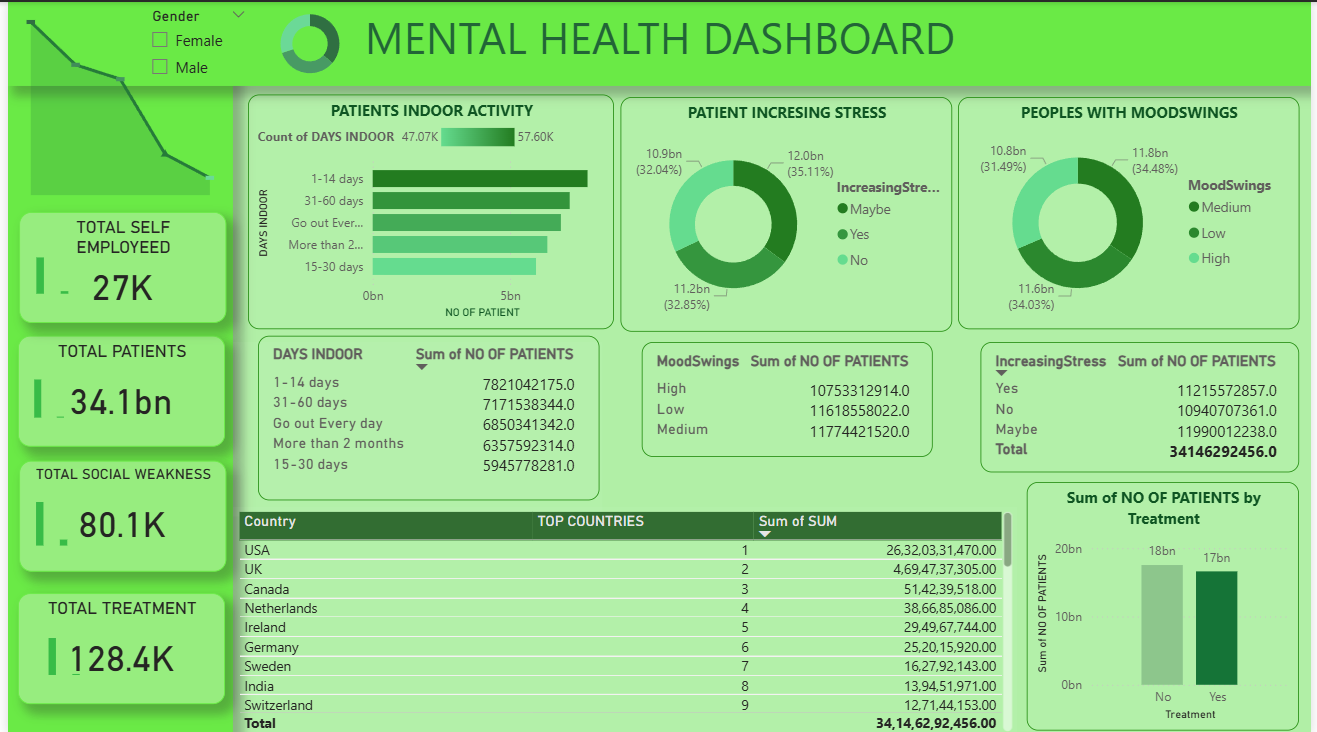

What the dashboard file says about the page in this screenshot:
{"tool":"powerbi","page":{"name":"Page 1","canvas":[1280,720],"ordinal":0},"visuals":[{"type":"textbox","box":[0,0,220.9,720.4],"z":0},{"type":"card","title":"TOTAL PATIENTS","fields":{"Values":["Sum(Mental Health dataset1.NO OF PATIENTS)"]},"box":[9.6,328,203.1,108.4],"z":1000},{"type":"textbox","box":[0,0,1280.3,82.3],"z":2000},{"type":"card","title":"TOTAL SOCIAL WEAKNESS","fields":{"Values":["Sum(Mental Health dataset1.SOCIAL WEAKNESS)"]},"box":[11,450.1,203.1,108.4],"z":3000},{"type":"card","title":"TOTAL TREATMENT","fields":{"Values":["Sum(Mental Health dataset1.TOTAL TREATMENT)"]},"box":[9.6,580.4,203.1,108.4],"z":4000},{"type":"clusteredBarChart","title":"PATIENTS INDOOR ACTIVITY","fields":{"Category":["Mental Health dataset1.DaysIndoors"],"Y":["Sum(Mental Health dataset1.NO OF PATIENTS)"]},"box":[236,90.6,359.5,230.5],"z":5000},{"type":"columnChart","fields":{"Category":["Mental Health dataset1.Gender"],"Y":["Sum(Mental Health dataset1.NO OF PATIENTS)"]},"box":[23.3,603.8,65.9,63.1],"z":6000},{"type":"textbox","box":[220.9,333.4,362.3,171.5],"z":7000},{"type":"columnChart","fields":{"Category":["Mental Health dataset1.Gender"],"Y":["Sum(Mental Health dataset1.NO OF PATIENTS)"]},"box":[9.6,349.9,63.1,64.5],"z":8000},{"type":"tableEx","fields":{"Values":["Mental Health dataset1 (2).Country","Mental Health dataset1 (2).TOP COUNTRIES","Sum(Mental Health dataset1 (2).SUM)"]},"box":[220.9,495.4,769.8,225],"z":9000},{"type":"lineChart","fields":{"Category":["Mental Health dataset1.Occupation"],"Y":["Sum(Mental Health dataset1.NO OF PATIENTS)"]},"box":[0,0,220.9,194.9],"z":10000},{"type":"slicer","fields":{"Values":["Mental Health dataset1.Gender"]},"box":[129,0,116.6,82.3],"z":11000},{"type":"donutChart","title":"PEOPLES WITH MOODSWINGS","fields":{"Category":["Mental Health dataset1.MoodSwings"],"Y":["Sum(Mental Health dataset1.NO OF PATIENTS)"]},"box":[933.1,93.3,334.8,227.8],"z":12000},{"type":"donutChart","title":" PATIENT INCRESING STRESS","fields":{"Category":["Mental Health dataset1.IncreasingStress"],"Y":["Sum(Mental Health dataset1.NO OF PATIENTS)"]},"box":[601,93.3,325.2,230.5],"z":13000},{"type":"pivotTable","fields":{"Rows":["Mental Health dataset1.DaysIndoors"],"Values":["Sum(Mental Health dataset1.NO OF PATIENTS)"]},"box":[245.6,328,334.8,161.9],"z":14000},{"type":"columnChart","fields":{"Category":["Mental Health dataset1.Gender"],"Y":["Sum(Mental Health dataset1.SOCIAL WEAKNESS)"]},"box":[11,470.7,65.9,68.6],"z":15000},{"type":"donutChart","fields":{"Y":["Sum(Mental Health dataset1.NO OF PATIENTS)"],"Category":["Mental Health dataset1.SocialWeakness"]},"box":[236,0,122.1,82.3],"z":16000},{"type":"card","title":"TOTAL SELF EMPLOYEED","fields":{"Values":["Sum(Mental Health dataset1.TOTAL EMPLOYEED)"]},"box":[11,205.8,203.1,108.4],"z":17000},{"type":"columnChart","fields":{"Category":["Mental Health dataset1.Gender"],"Y":["Sum(Mental Health dataset1.TOTAL EMPLOYEED)"]},"box":[11,229.2,67.2,63.1],"z":18000},{"type":"pivotTable","fields":{"Rows":["Mental Health dataset1.MoodSwings"],"Values":["Sum(Mental Health dataset1.NO OF PATIENTS)"]},"box":[621.6,333.4,285.4,112.5],"z":19000},{"type":"pivotTable","fields":{"Rows":["Mental Health dataset1.IncreasingStress"],"Values":["Sum(Mental Health dataset1.NO OF PATIENTS)"]},"box":[955.1,333.4,312.9,127.6],"z":20000},{"type":"columnChart","fields":{"Category":["Mental Health dataset1.Treatment"],"Y":["Sum(Mental Health dataset1.NO OF PATIENTS)"]},"box":[1000.3,470.7,267.6,244.3],"z":21000}]}

Visuals, with their boxes in screenshot pixels (x1, y1, x2, y2), scaled from the page's 1280x720 canvas onto the 1317x732 screenshot:
textbox: x1=0 y1=0 x2=227 y2=731
"TOTAL PATIENTS" card: x1=10 y1=333 x2=219 y2=444
textbox: x1=0 y1=0 x2=1316 y2=84
"TOTAL SOCIAL WEAKNESS" card: x1=11 y1=458 x2=220 y2=568
"TOTAL TREATMENT" card: x1=10 y1=590 x2=219 y2=700
"PATIENTS INDOOR ACTIVITY" clusteredBarChart: x1=243 y1=92 x2=613 y2=326
columnChart - Mental Health dataset1.Gender x Sum(Mental Health dataset1.NO OF PATIENTS): x1=24 y1=614 x2=92 y2=678
textbox: x1=227 y1=339 x2=600 y2=513
columnChart - Mental Health dataset1.Gender x Sum(Mental Health dataset1.NO OF PATIENTS): x1=10 y1=356 x2=75 y2=421
tableEx - Mental Health dataset1 (2).Country x Mental Health dataset1 (2).TOP COUNTRIES: x1=227 y1=504 x2=1019 y2=731
lineChart - Mental Health dataset1.Occupation x Sum(Mental Health dataset1.NO OF PATIENTS): x1=0 y1=0 x2=227 y2=198
slicer - Mental Health dataset1.Gender: x1=133 y1=0 x2=253 y2=84
"PEOPLES WITH MOODSWINGS" donutChart: x1=960 y1=95 x2=1305 y2=326
" PATIENT INCRESING STRESS" donutChart: x1=618 y1=95 x2=953 y2=329
pivotTable - Mental Health dataset1.DaysIndoors x Sum(Mental Health dataset1.NO OF PATIENTS): x1=253 y1=333 x2=597 y2=498
columnChart - Mental Health dataset1.Gender x Sum(Mental Health dataset1.SOCIAL WEAKNESS): x1=11 y1=479 x2=79 y2=548
donutChart - Sum(Mental Health dataset1.NO OF PATIENTS) x Mental Health dataset1.SocialWeakness: x1=243 y1=0 x2=368 y2=84
"TOTAL SELF EMPLOYEED" card: x1=11 y1=209 x2=220 y2=319
columnChart - Mental Health dataset1.Gender x Sum(Mental Health dataset1.TOTAL EMPLOYEED): x1=11 y1=233 x2=80 y2=297
pivotTable - Mental Health dataset1.MoodSwings x Sum(Mental Health dataset1.NO OF PATIENTS): x1=640 y1=339 x2=933 y2=453
pivotTable - Mental Health dataset1.IncreasingStress x Sum(Mental Health dataset1.NO OF PATIENTS): x1=983 y1=339 x2=1305 y2=469
columnChart - Mental Health dataset1.Treatment x Sum(Mental Health dataset1.NO OF PATIENTS): x1=1029 y1=479 x2=1305 y2=727
